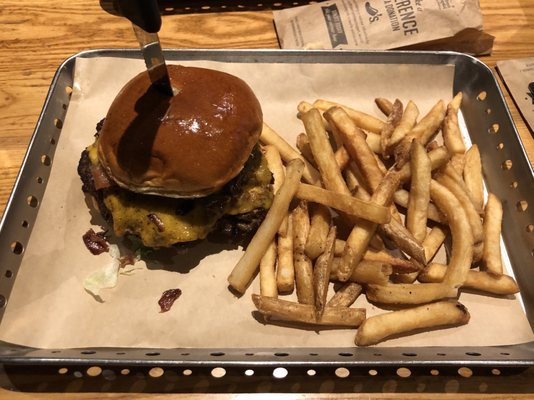soup: (79, 63, 285, 255)
